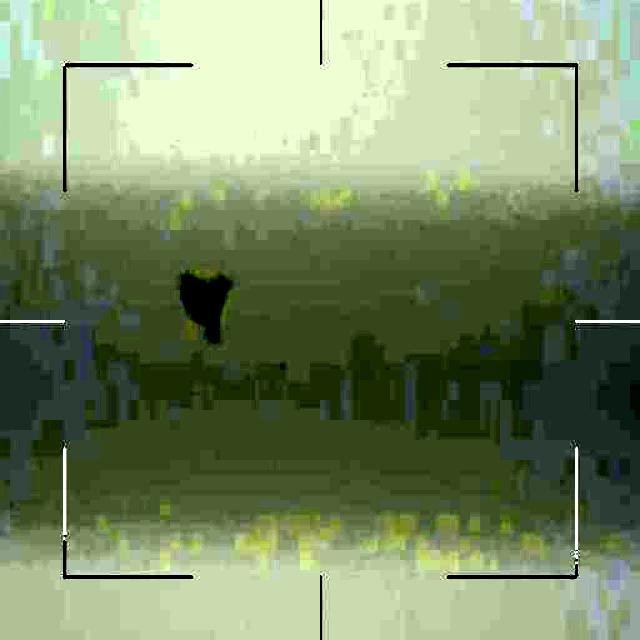bird: (176, 271, 235, 342)
